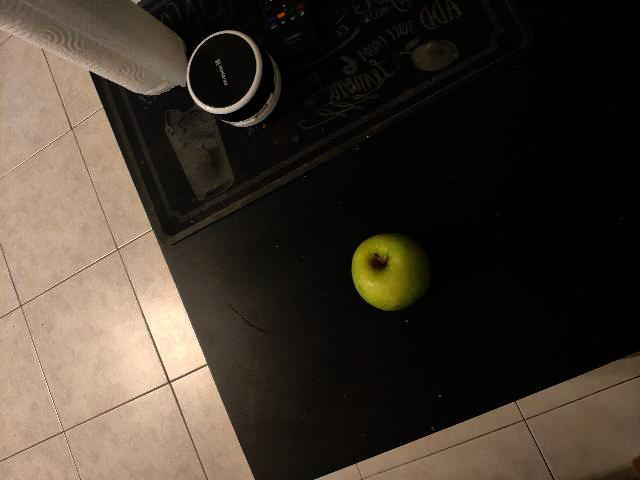apple: (161, 335, 248, 433)
